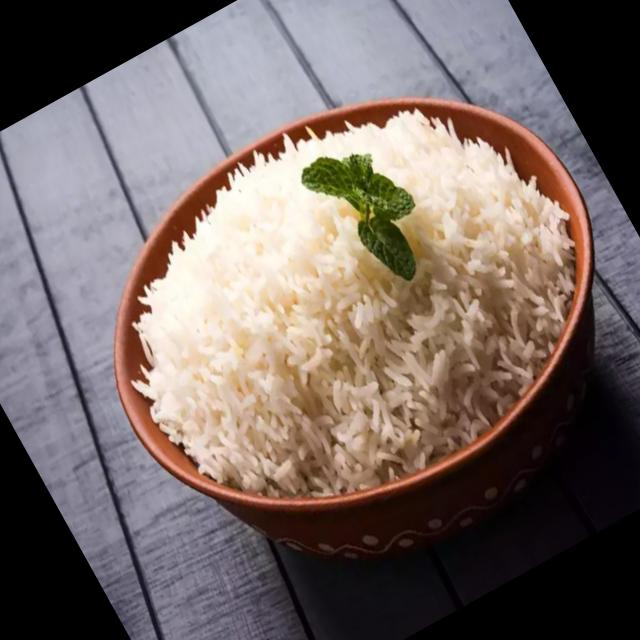rice: (135, 108, 578, 495)
